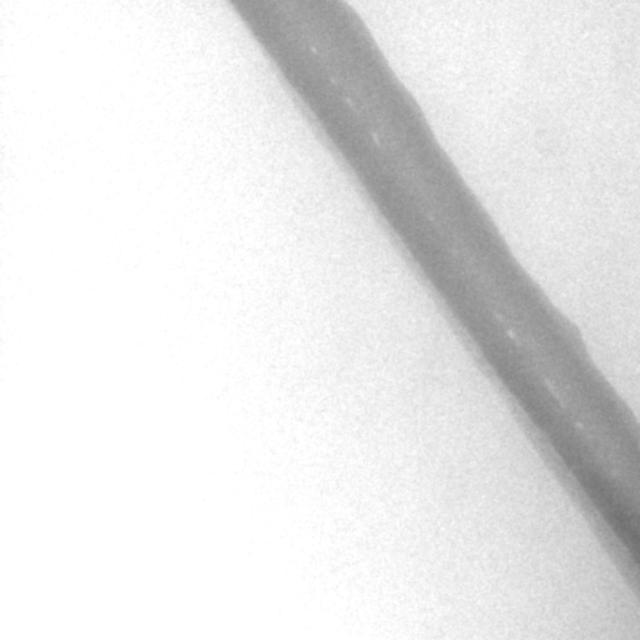air hole: (369, 129, 381, 150), (505, 326, 517, 343), (573, 419, 583, 432), (308, 43, 317, 55)
